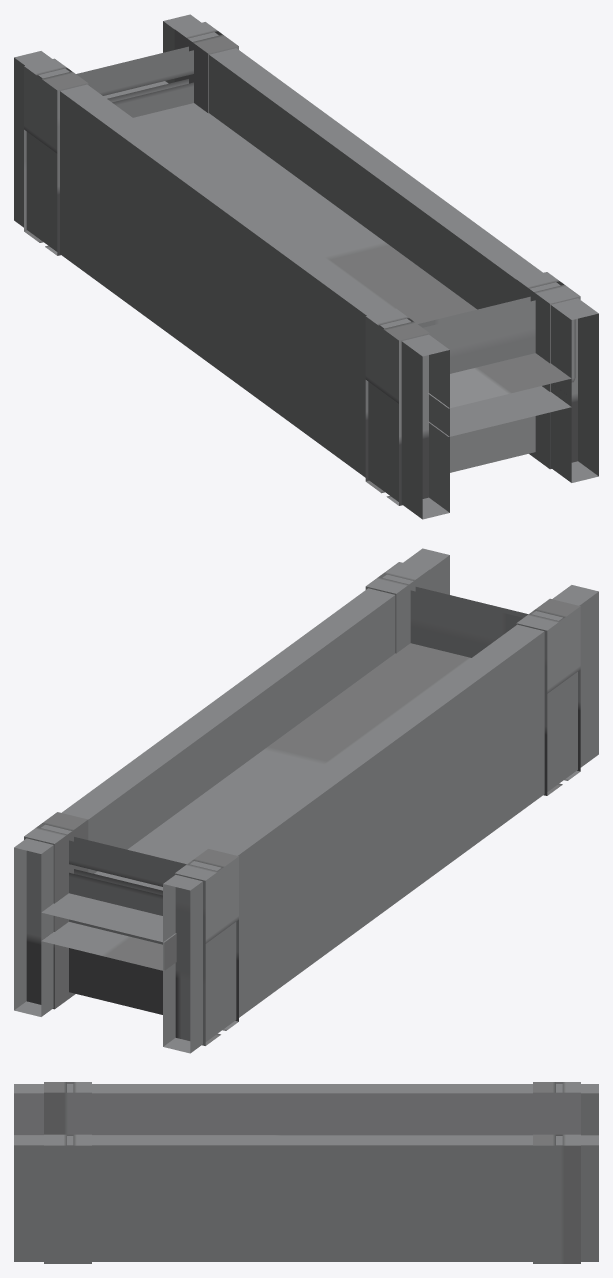
3 renders of one model, top to bottom at view 1: azimuth 30°, elevation 25°; view 2: azimuth 150°, elevation 25°; view 3: azimuth 270°, elevation 25°, orthographic. The views are drawn at different scales.
Bounding box in the file's own units: 0.626 × 0.545 × 2.44.
